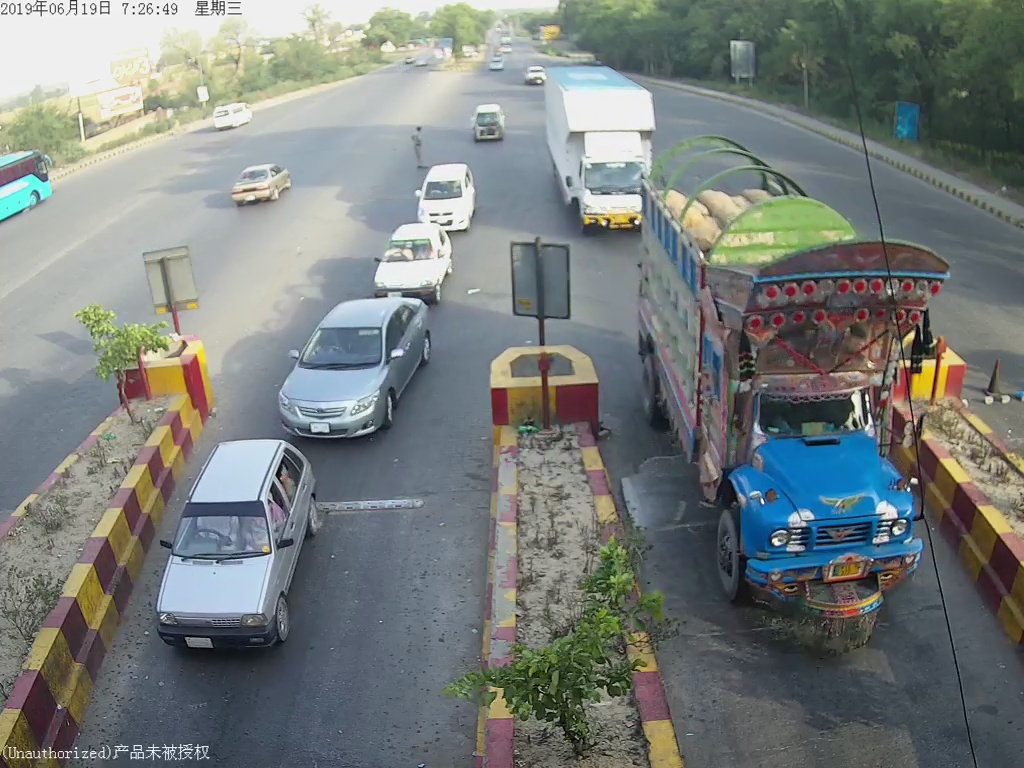Cat-1: (156, 433, 315, 656), (274, 293, 440, 436), (372, 224, 452, 291), (417, 169, 474, 226)
Cat-4: (645, 141, 929, 653), (546, 67, 640, 241)
